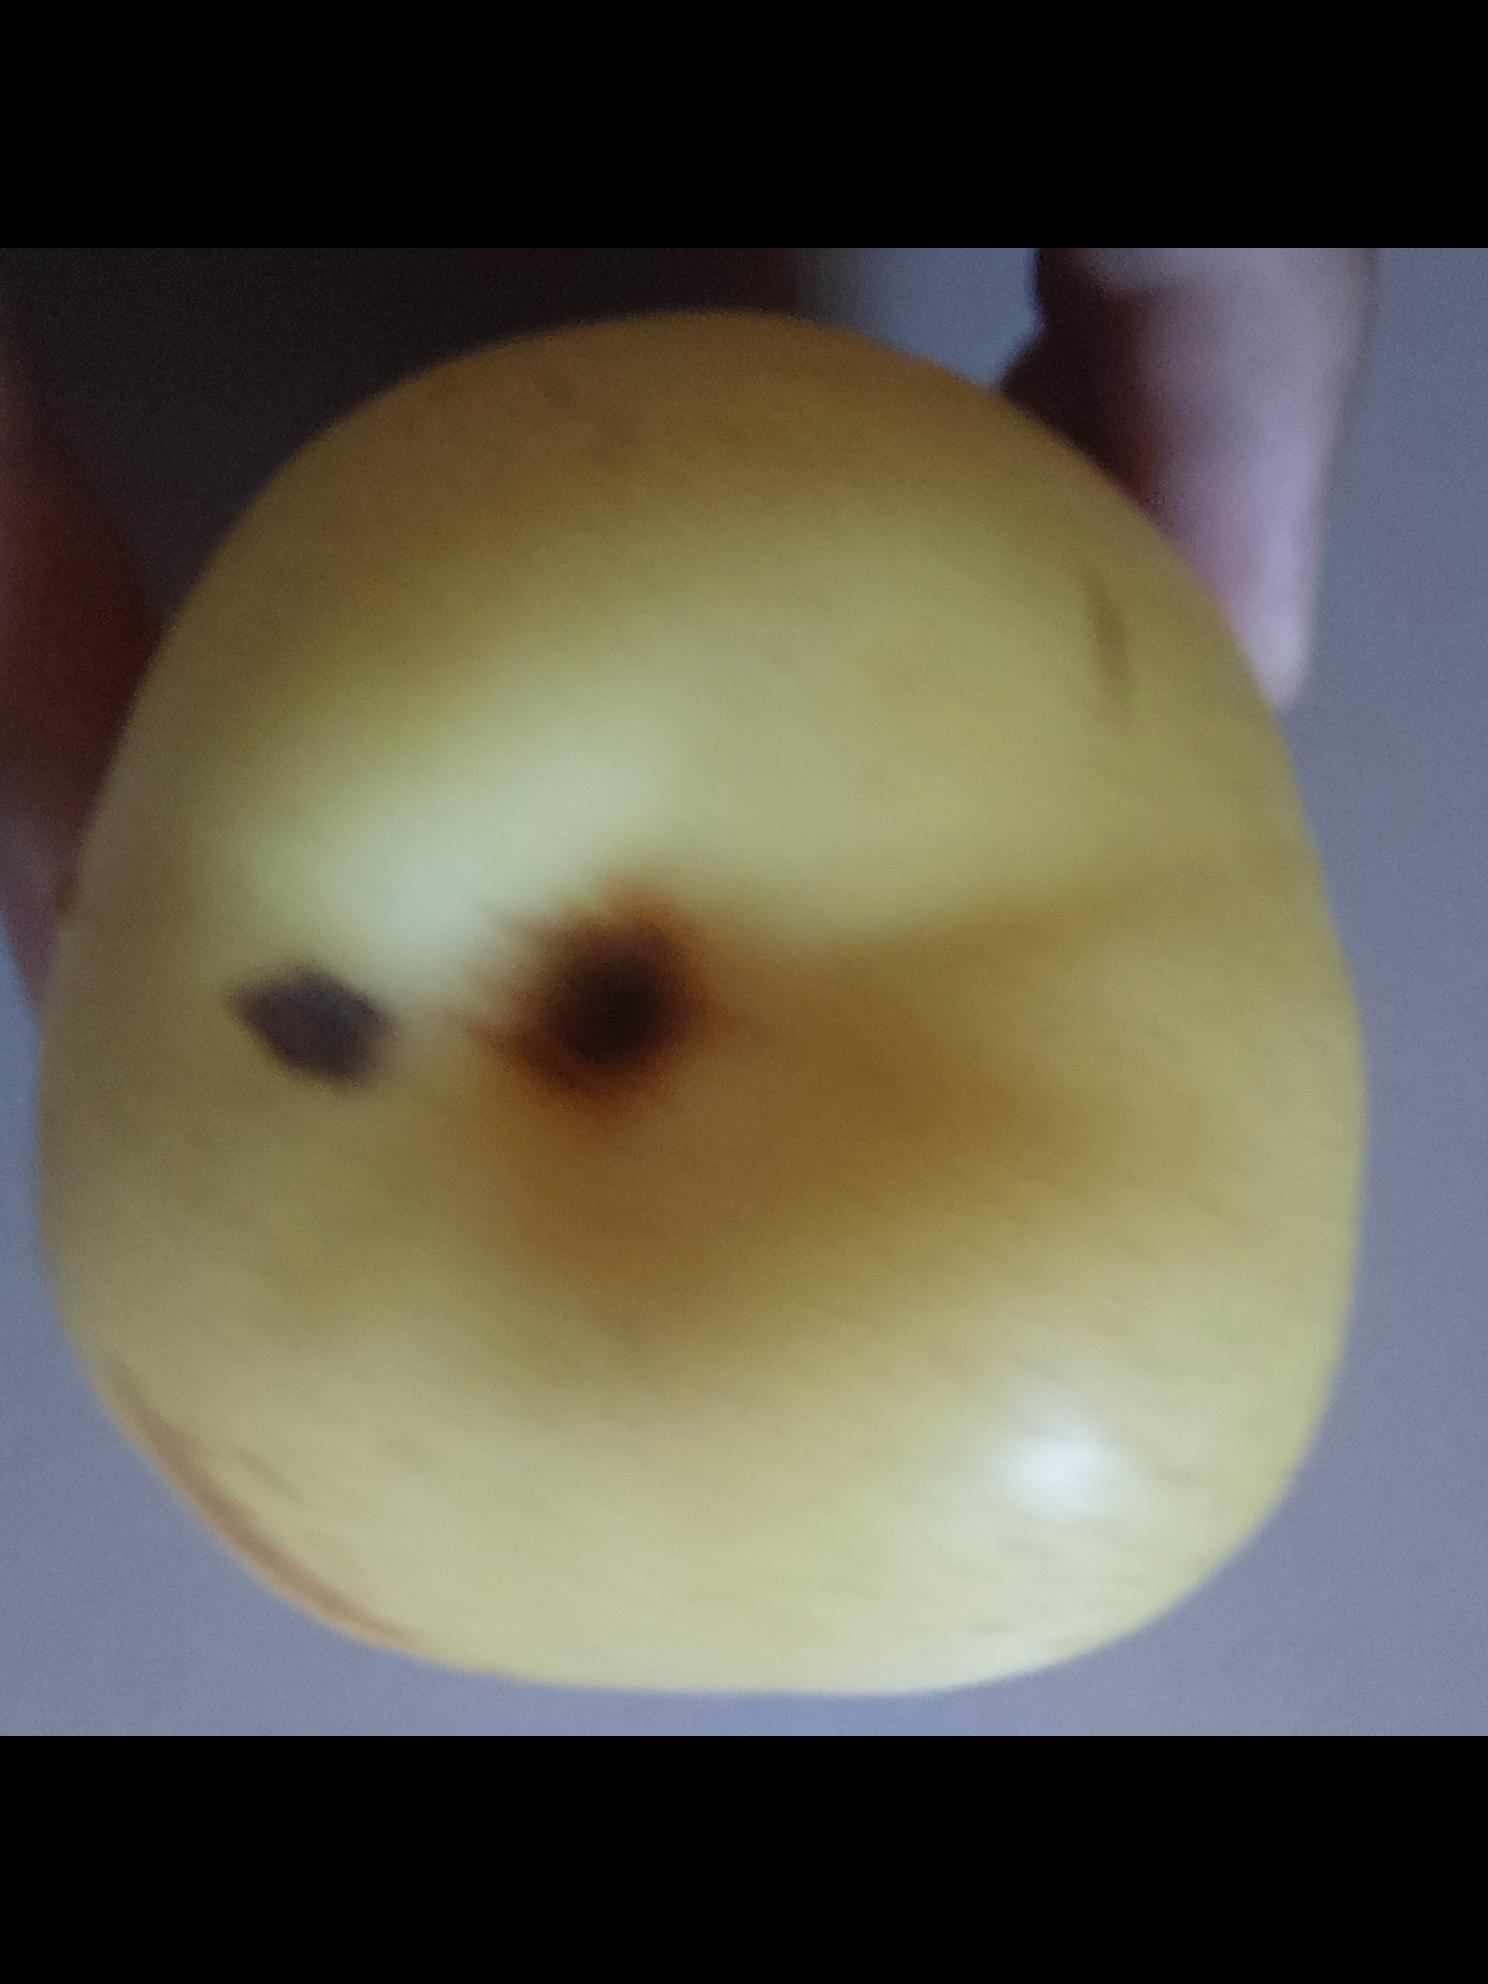Good Pear: (22, 300, 1392, 1700)
